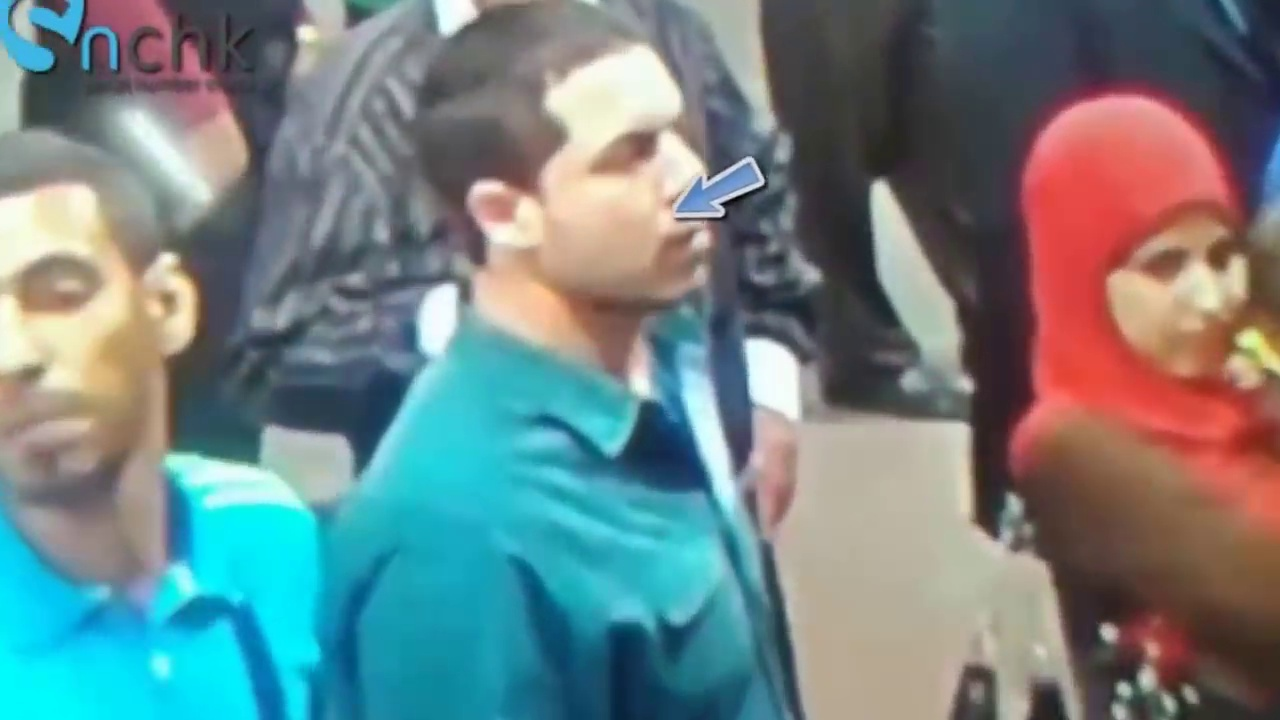face: (530, 79, 712, 295), (4, 199, 132, 486), (1115, 230, 1246, 375)
